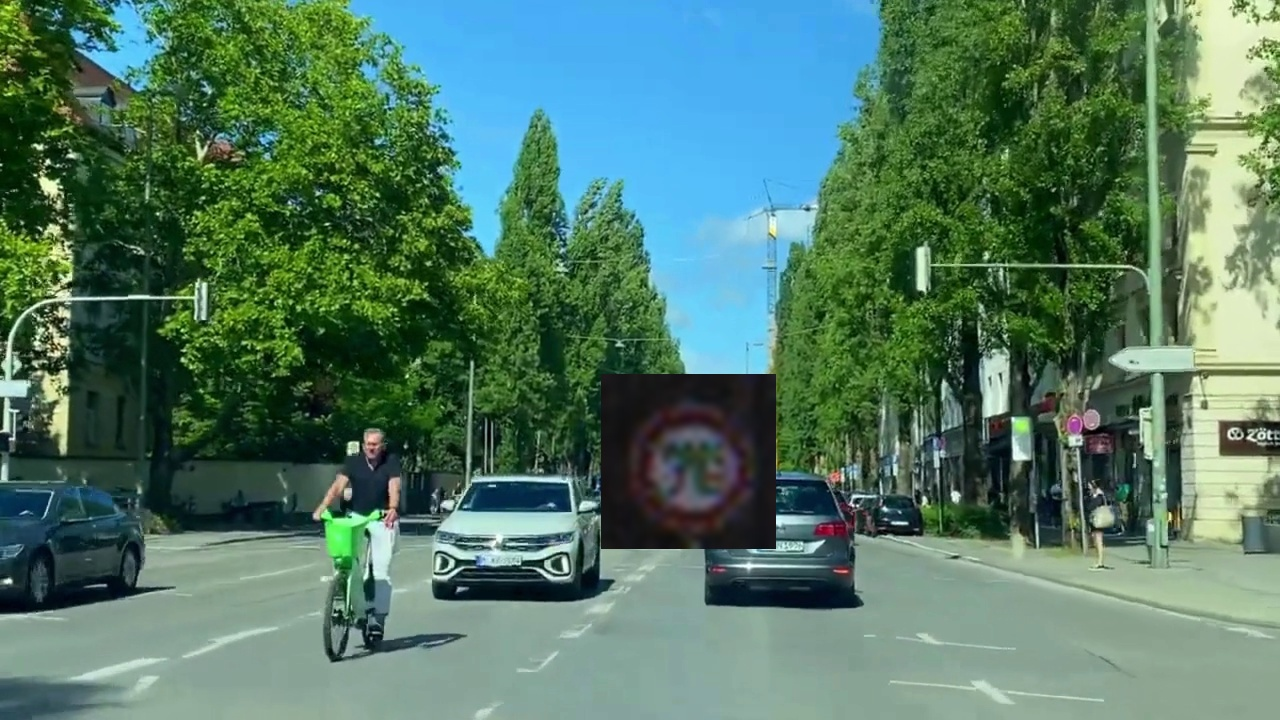Speed 70: (601, 374, 776, 549)
